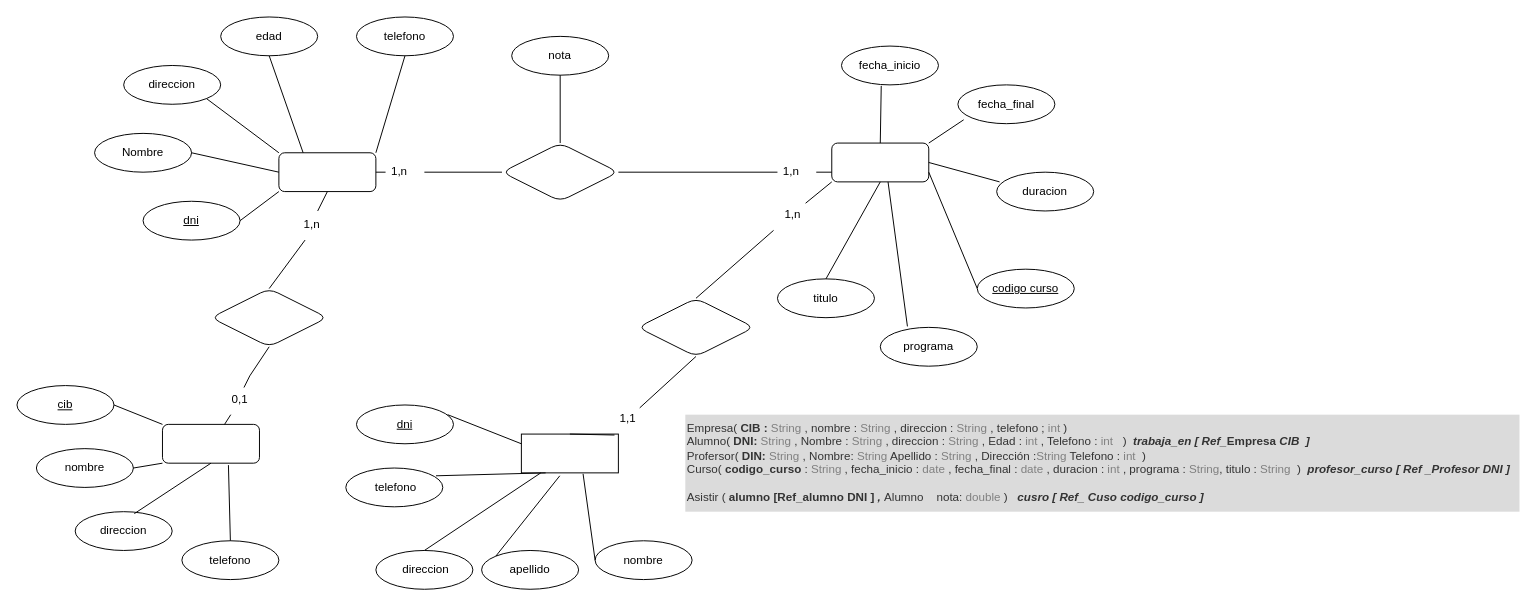
Image size: 1536x606. Some labels were removed from this diagram. Each missing label, with the centre of its shape:
"alumno" goes at point 327,172.
"asitir" goes at point 559,171.
"curso" goes at point 880,162.
"empresa" goes at point 210,443.
"impartir" goes at point 695,326.
"profesor" goes at point 569,453.
"trabaja" goes at point 268,317.
